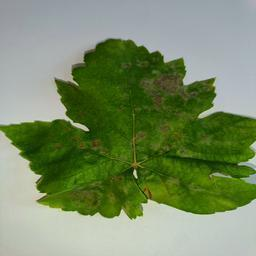Powdery-Mildew: (147, 71, 193, 113), (134, 126, 162, 192), (76, 187, 105, 211), (158, 117, 175, 134), (88, 135, 105, 152)
